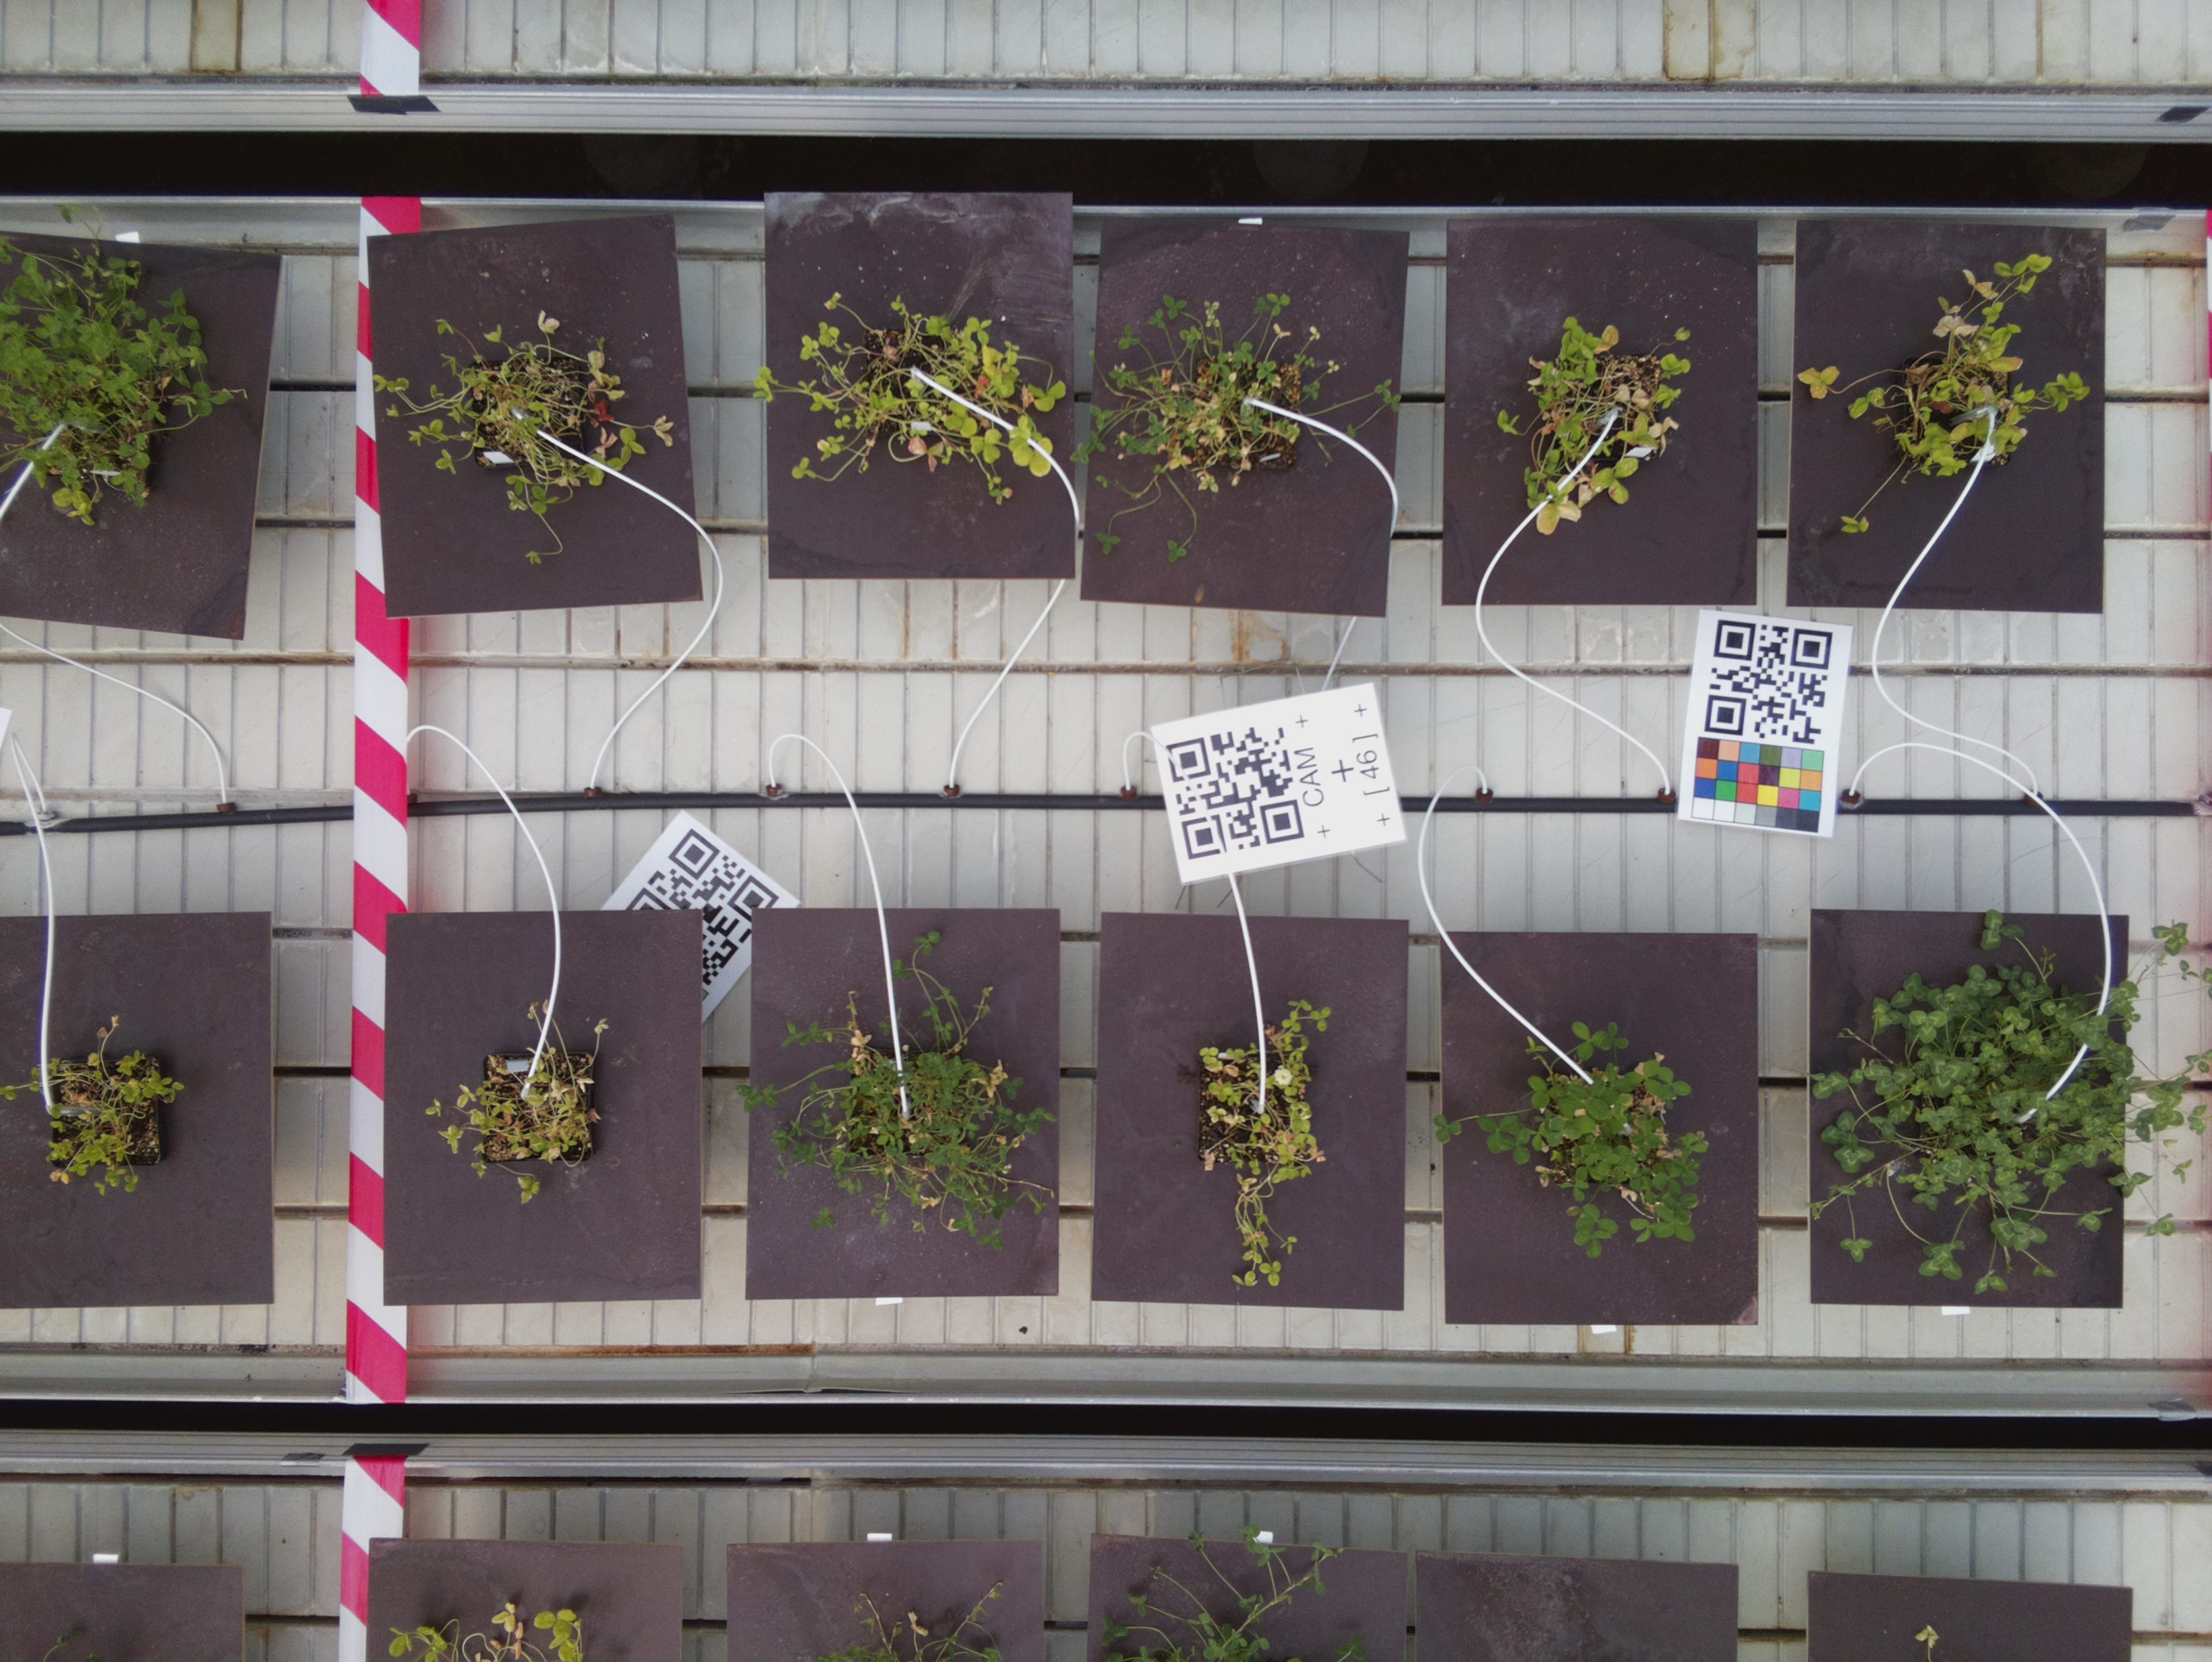POT: (761, 194, 1079, 581), (386, 913, 698, 1306), (1086, 225, 1411, 601), (1812, 911, 2119, 1308), (1446, 931, 1755, 1320), (384, 216, 686, 613), (1098, 915, 1400, 1308), (1447, 223, 1753, 611), (1795, 222, 2093, 613), (749, 911, 1053, 1295)
QRCODE: (1149, 681, 1400, 885)
QRCOLOR: (1683, 613, 1856, 841)
